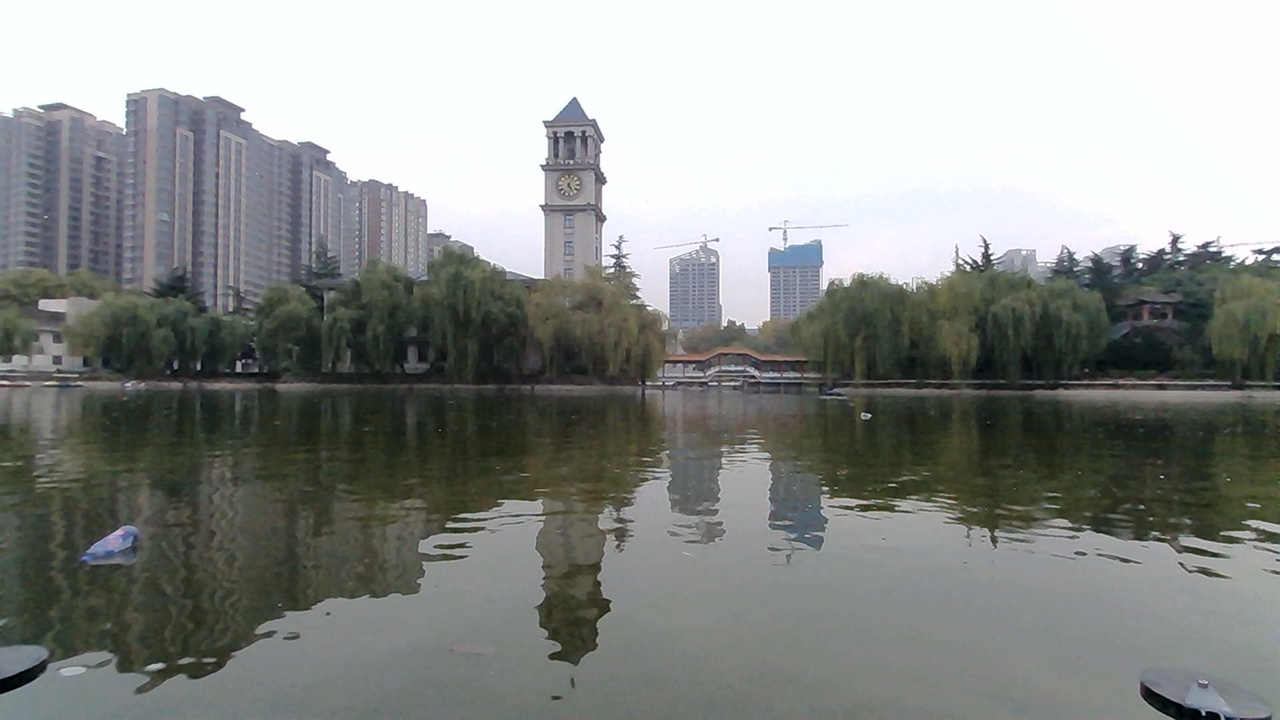bottle: (81, 524, 159, 571), (844, 402, 890, 426)
